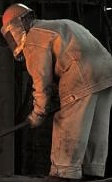gloves: (27, 110, 46, 128)
hard-hat: (1, 2, 34, 34)
ppe-suit: (20, 16, 111, 179)
